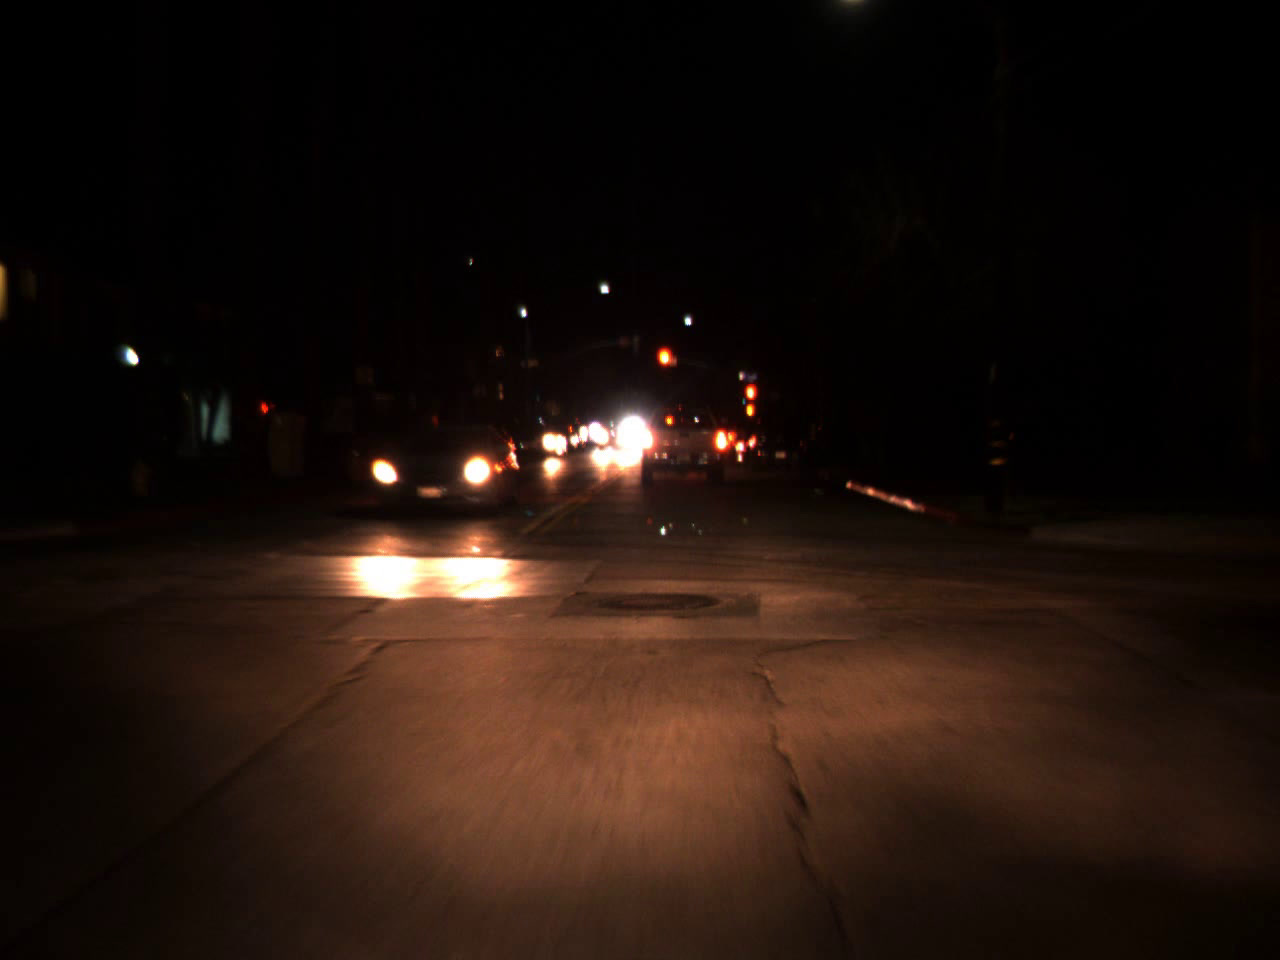stop: (654, 345, 676, 388), (743, 380, 758, 423)
